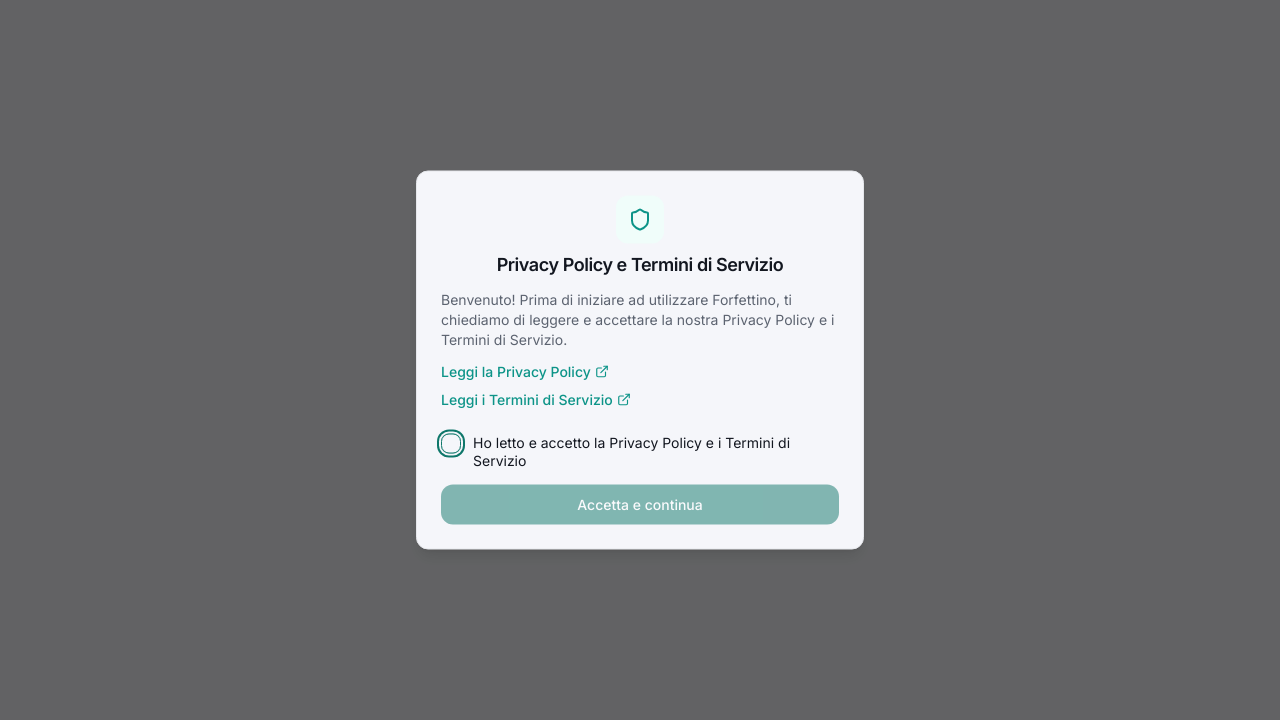
Test case: PrivacyConsentModal › checkbox checked → button enabled
The image size is (1280, 720).
Click the checkbox at x=451, y=444, box x1=441 y1=434 x2=461 y2=454
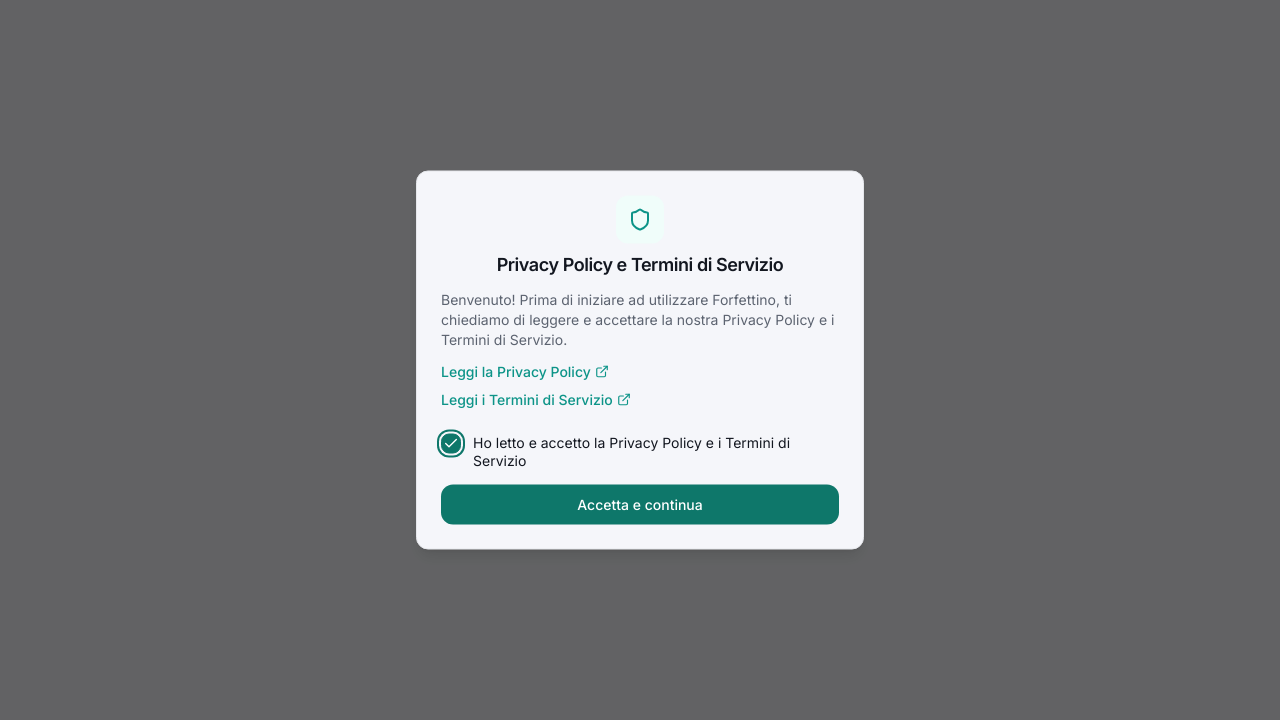
Result: the button "Accetta e continua" is enabled at x1=441 y1=484 x2=839 y2=524
